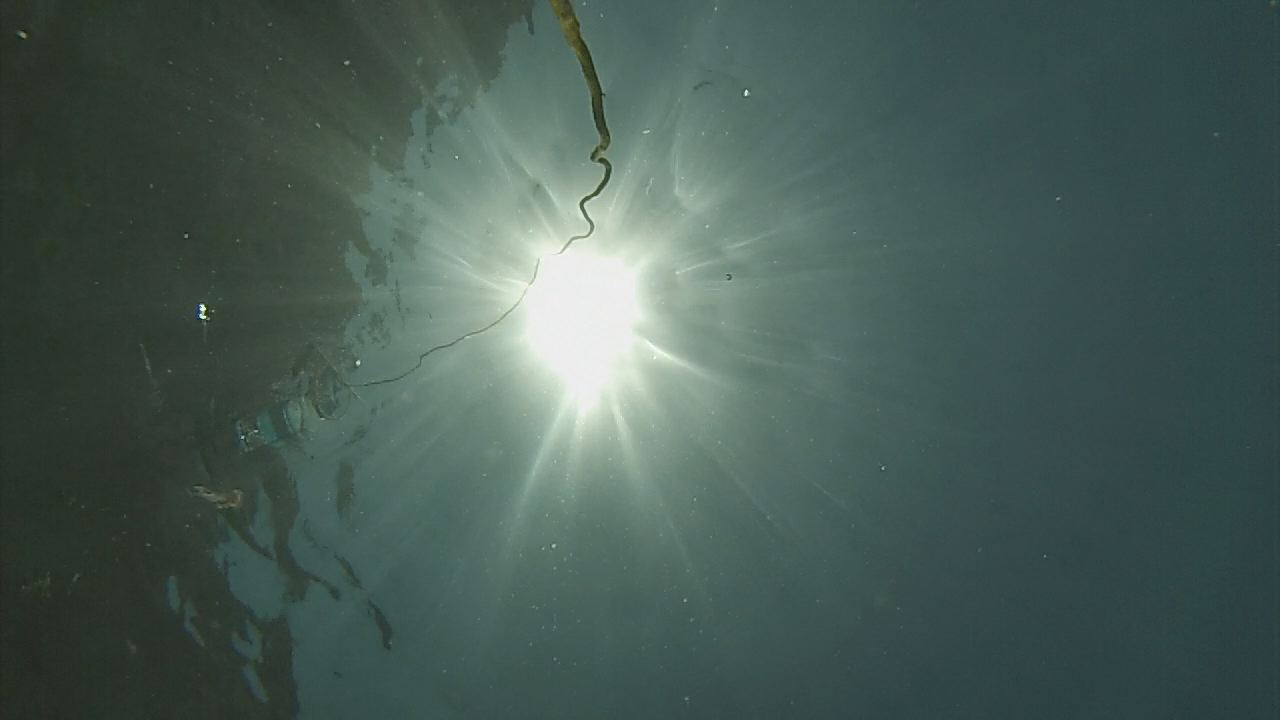pelagia: (187, 479, 248, 519)
